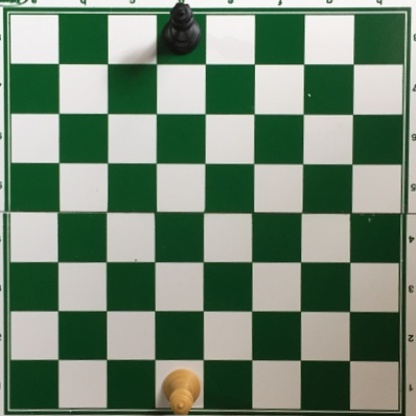black-queen: (160, 2, 204, 58)
white-queen: (161, 366, 203, 416)
